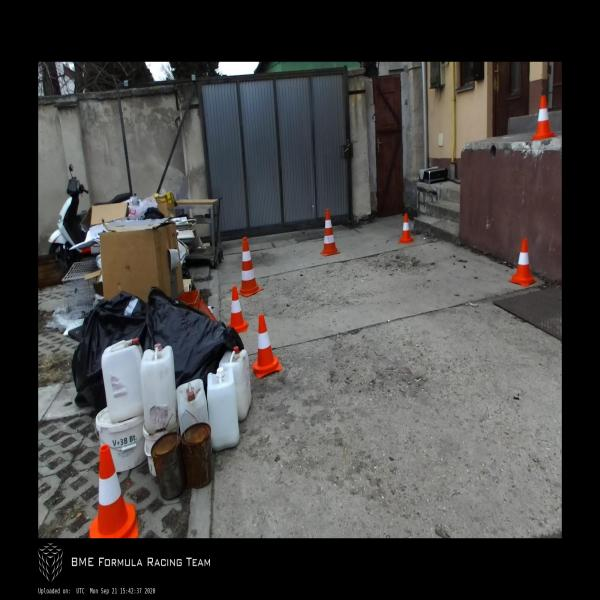large_orange_cone: (234, 236, 264, 296), (320, 208, 340, 256)
orange_cone: (89, 444, 138, 538), (252, 314, 282, 379), (508, 238, 537, 287), (228, 286, 249, 333), (532, 96, 554, 140), (398, 214, 413, 244)
